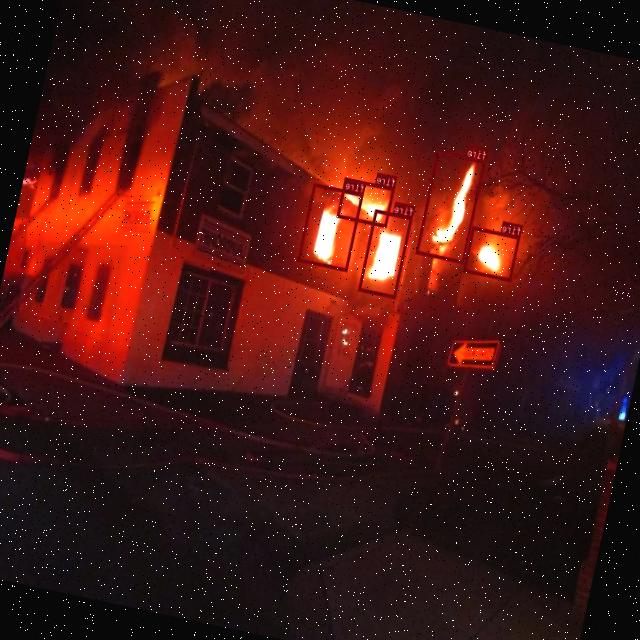fire: (416, 149, 486, 263), (297, 182, 364, 271), (358, 208, 413, 298), (463, 226, 520, 280), (337, 176, 395, 228)
